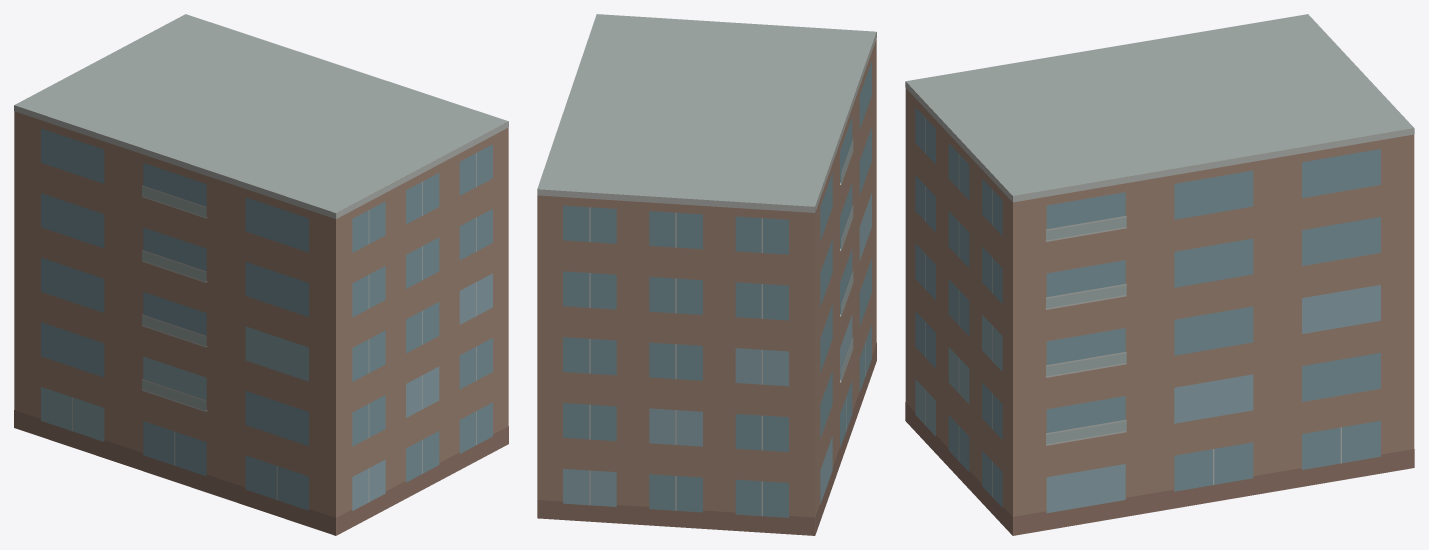
The model's file is survey-upis-32889161.glb.
The picture shows the model from 3 angles, left to right: view 1: azimuth 30°, elevation 25°; view 2: azimuth 150°, elevation 25°; view 3: azimuth 270°, elevation 25°; orthographic projection. The views are drawn at different scales.
Parts seen in each view (by area): view 1: survey-upis-32889161.tmp; view 2: survey-upis-32889161.tmp; view 3: survey-upis-32889161.tmp.
Boxes of the visible parts, x1,y1,x2,y2 form: survey-upis-32889161.tmp: [14, 14, 508, 535]; survey-upis-32889161.tmp: [537, 14, 876, 535]; survey-upis-32889161.tmp: [905, 14, 1414, 535].
Bounding box in the file's own units: 15.07 × 13.1 × 17.8.
